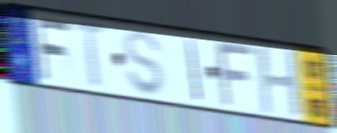F: (215, 41, 257, 109), (32, 14, 71, 82)
H: (255, 46, 306, 119)
I: (186, 37, 203, 103)
S: (123, 29, 165, 98)
T: (72, 18, 110, 91)
